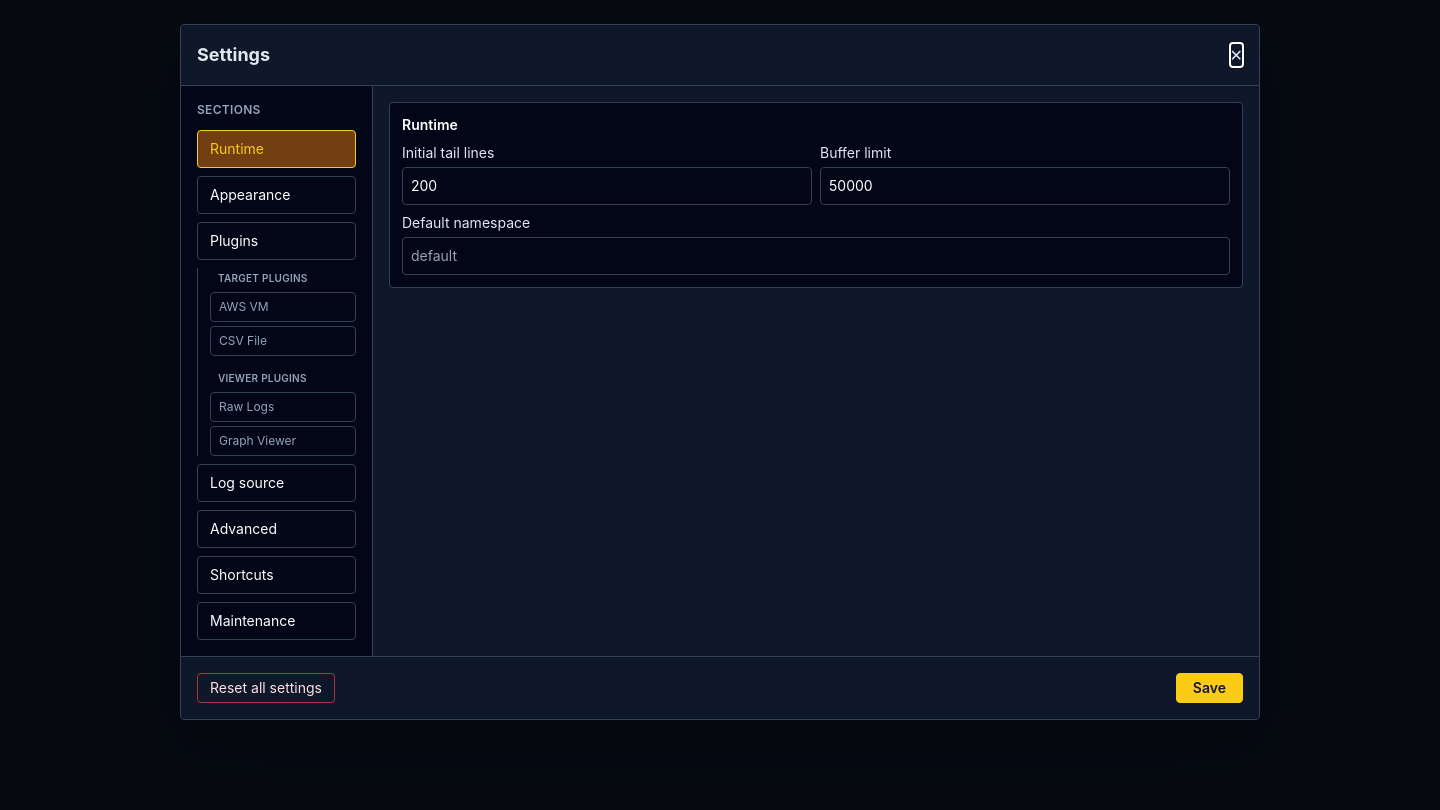
Test: SettingsModal log policy selection › shows JSON editing only after the user opens advanced raw JSON for a custom policy
The width and height of the screenshot is (1440, 810).
Click the button "Log source".
click(276, 483)  # box [197,464,356,502]
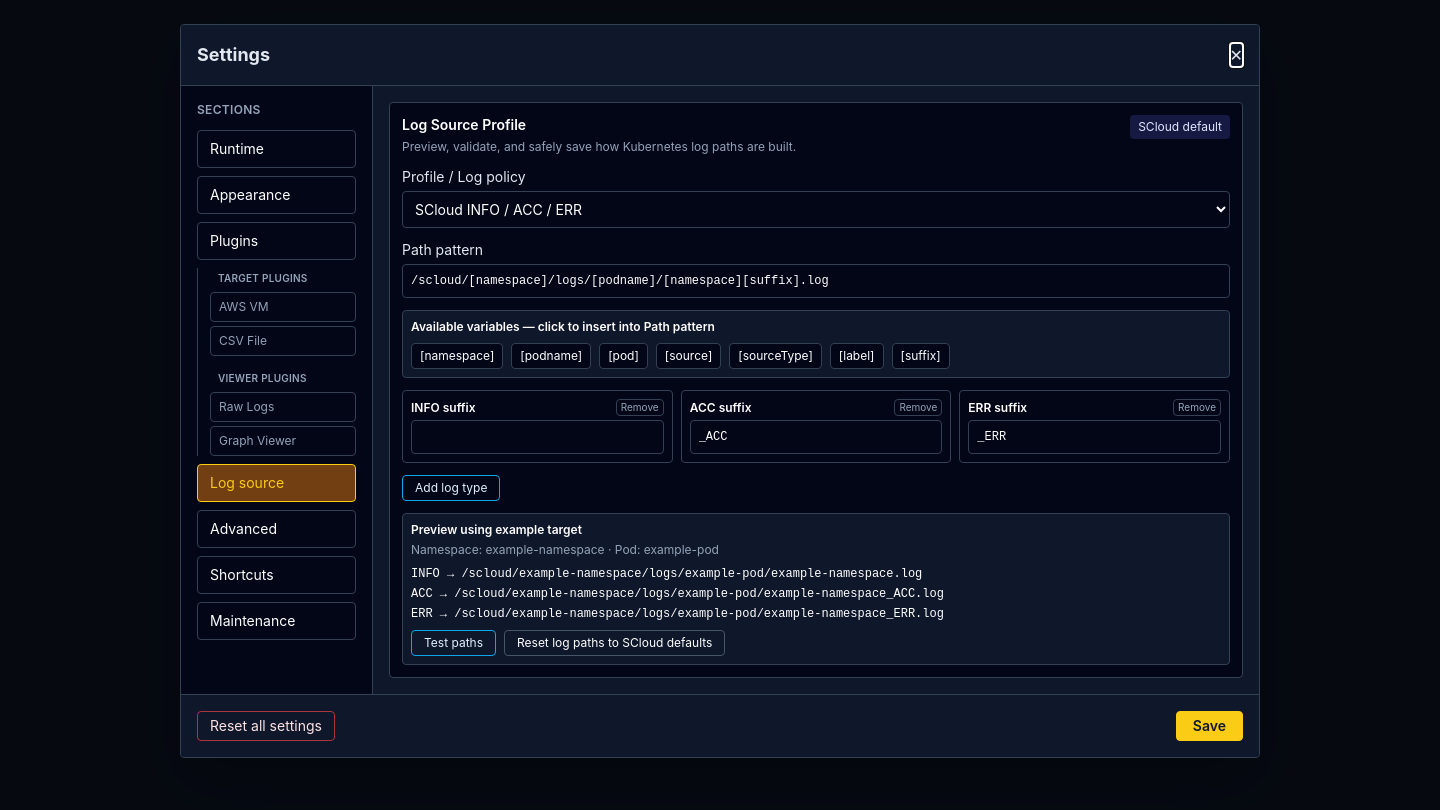
Select "Custom profile" in the dropdown labelled "Profile / Log policy" at (816, 210), box [402,191,1230,228]
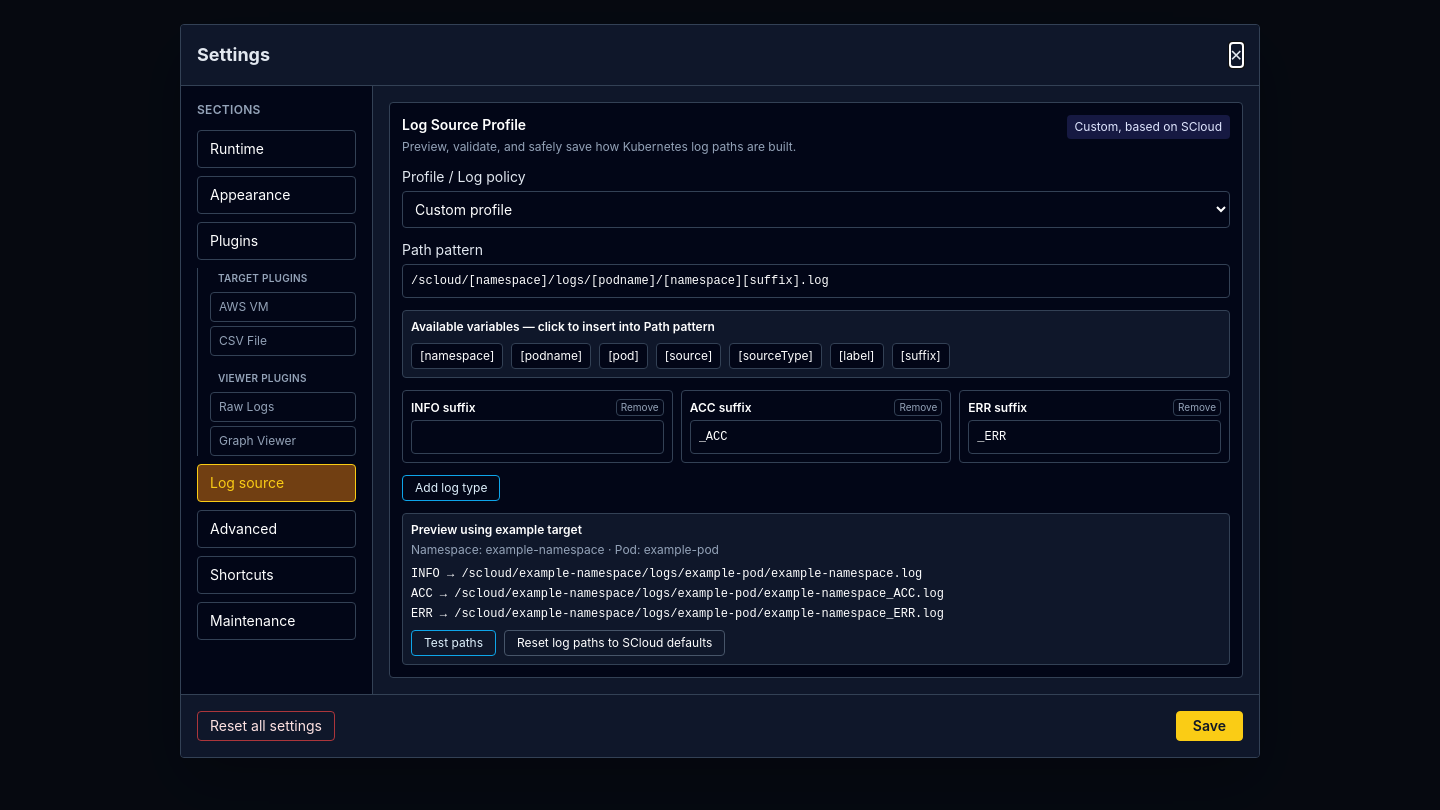
Click the button "Advanced".
click(276, 529)  # box [197,510,356,548]
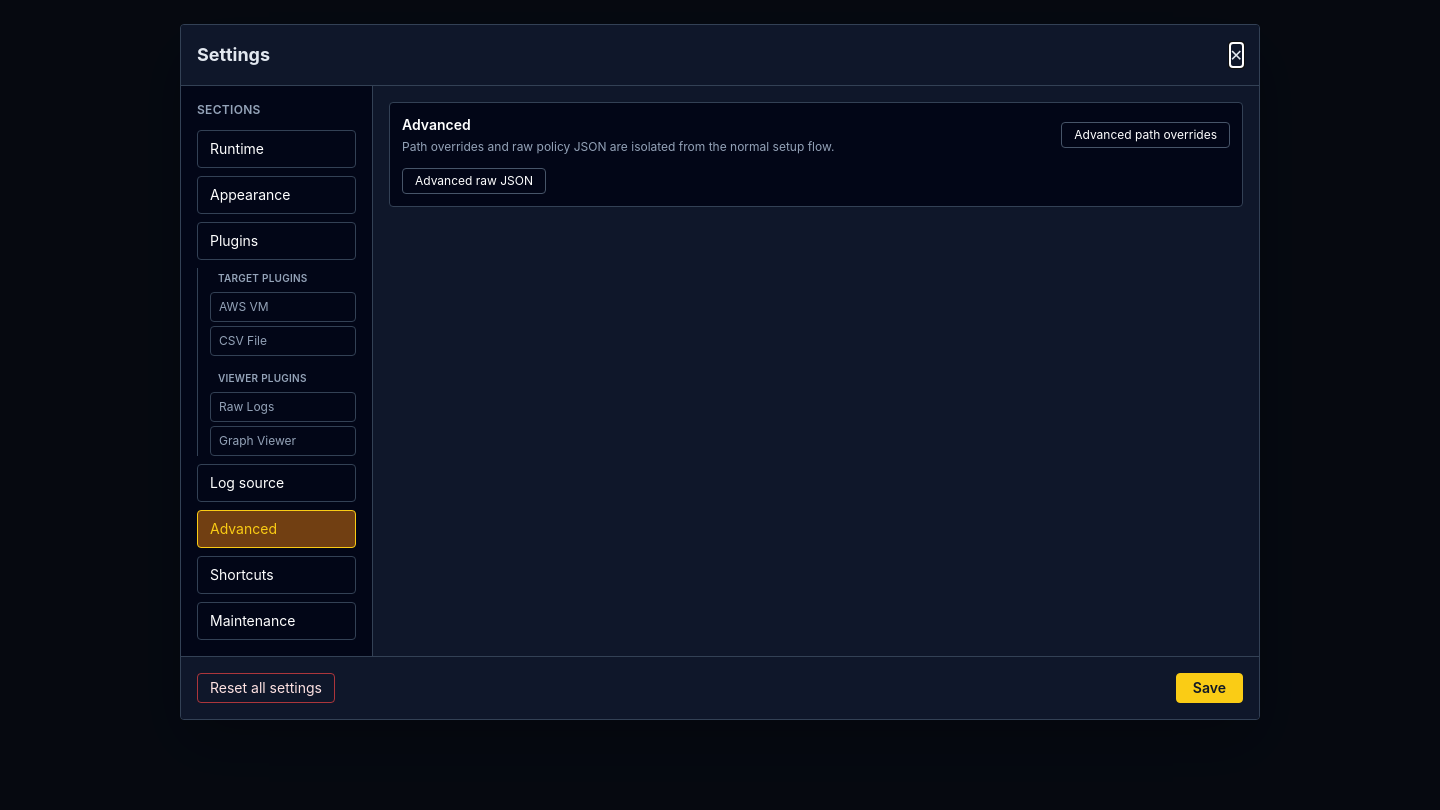
Click the button "Advanced raw JSON".
click(474, 181)  # box [402,168,546,194]
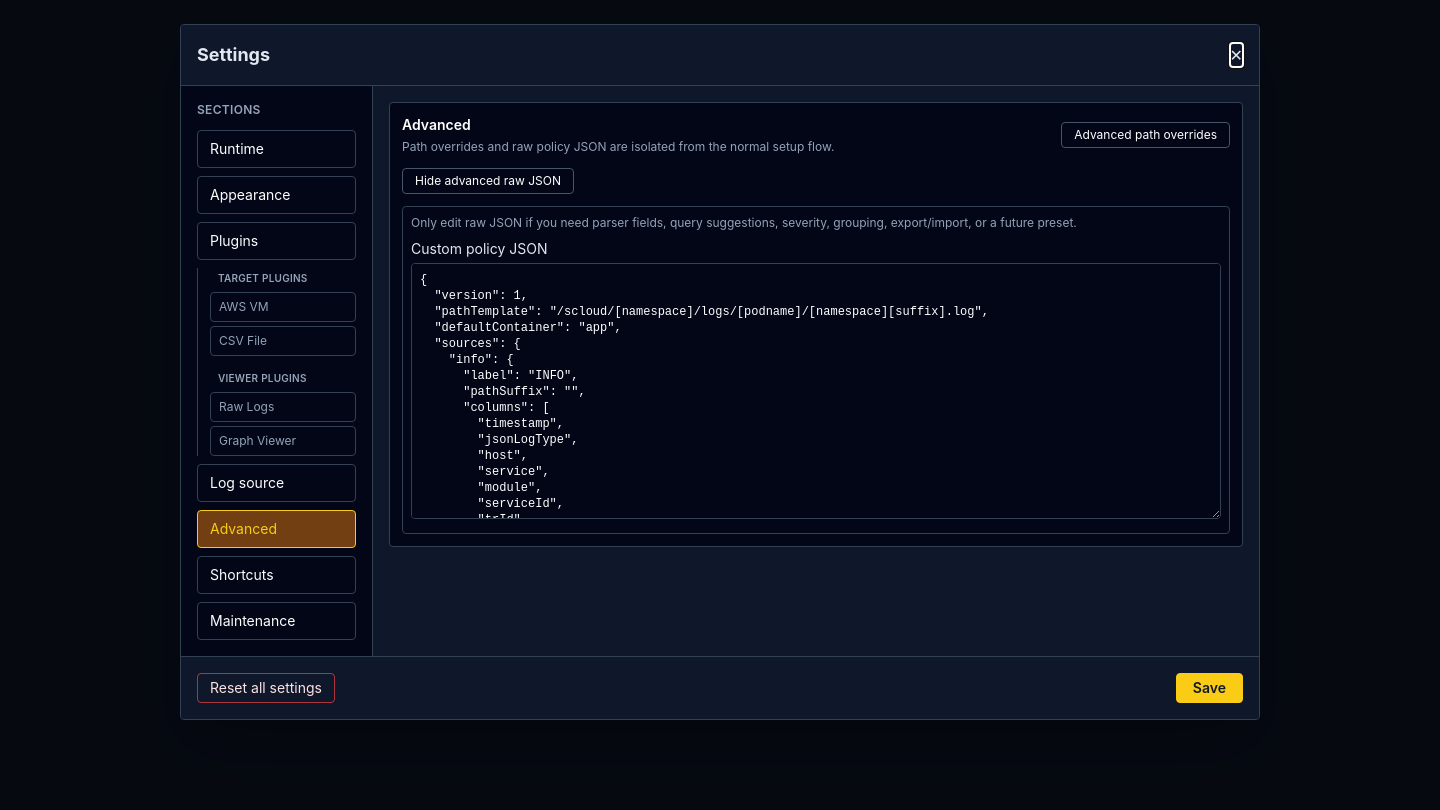
Expected: the text box labelled "Custom policy JSON" is shown, [411,263,1221,519]
